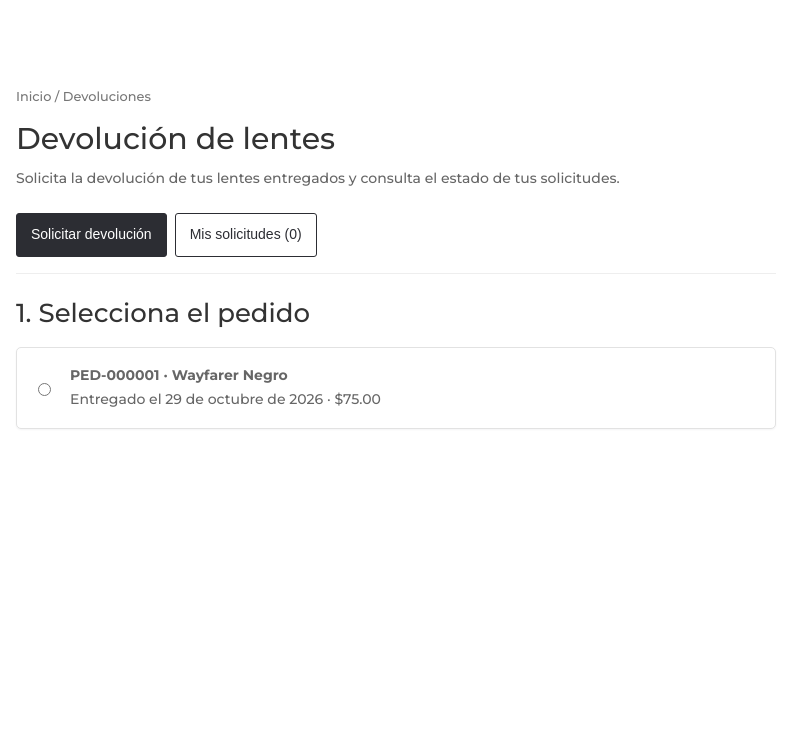
it: ReturnsPage › CA2: un pedido que cumple muestra el formulario con el botón habilitado
Click the radio button labelled "PED-000001": x=44, y=389 x1=38 y1=383 x2=51 y2=396
(page scrolled)
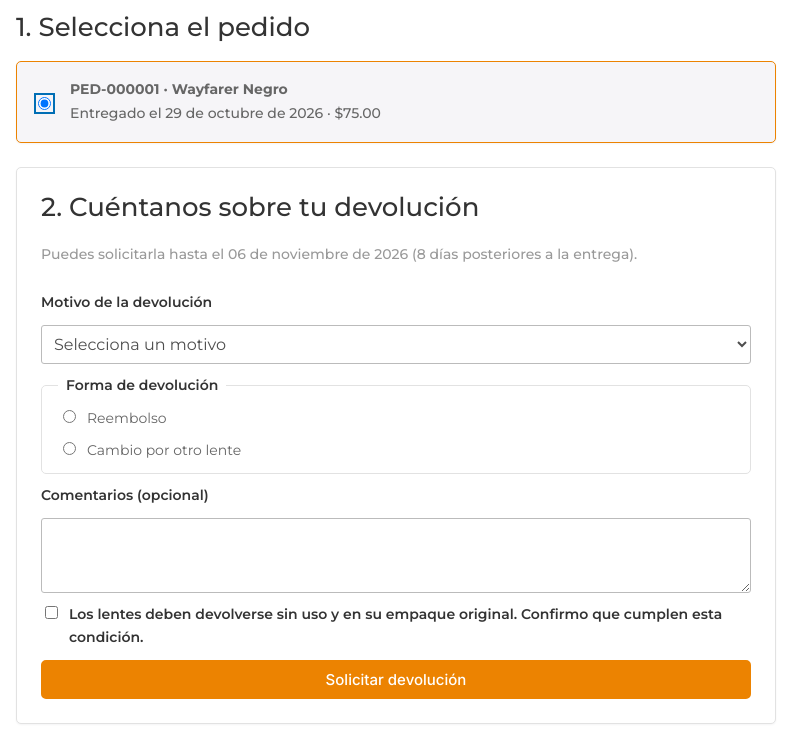
expect the dropdown labelled "Motivo de la devolución" is enabled: met, box x1=41 y1=324 x2=751 y2=364
expect the element "Forma de devolución" is shown: met, box x1=41 y1=374 x2=751 y2=474
expect the button "Solicitar devolución" is enabled: met, box x1=41 y1=660 x2=751 y2=699
